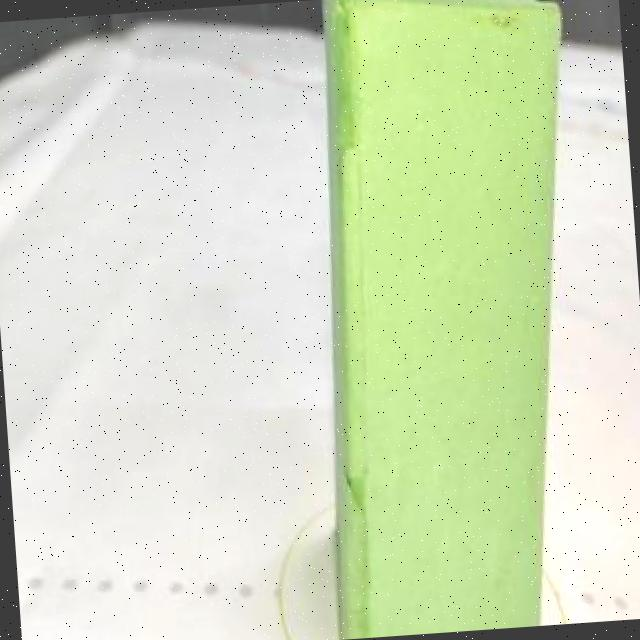greenbox: (295, 0, 603, 639)
